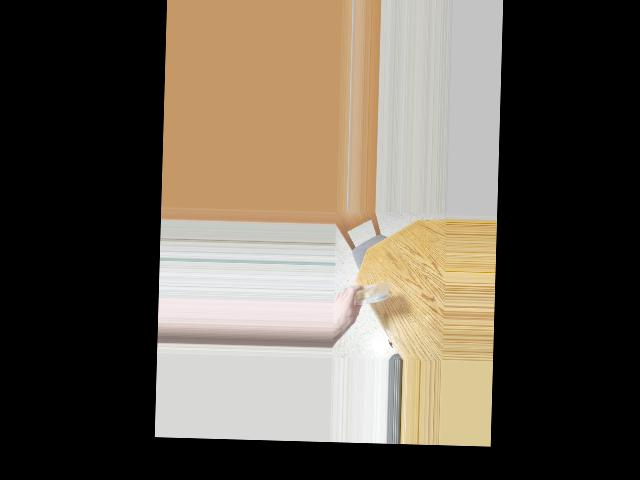cheese: (353, 281, 387, 312)
